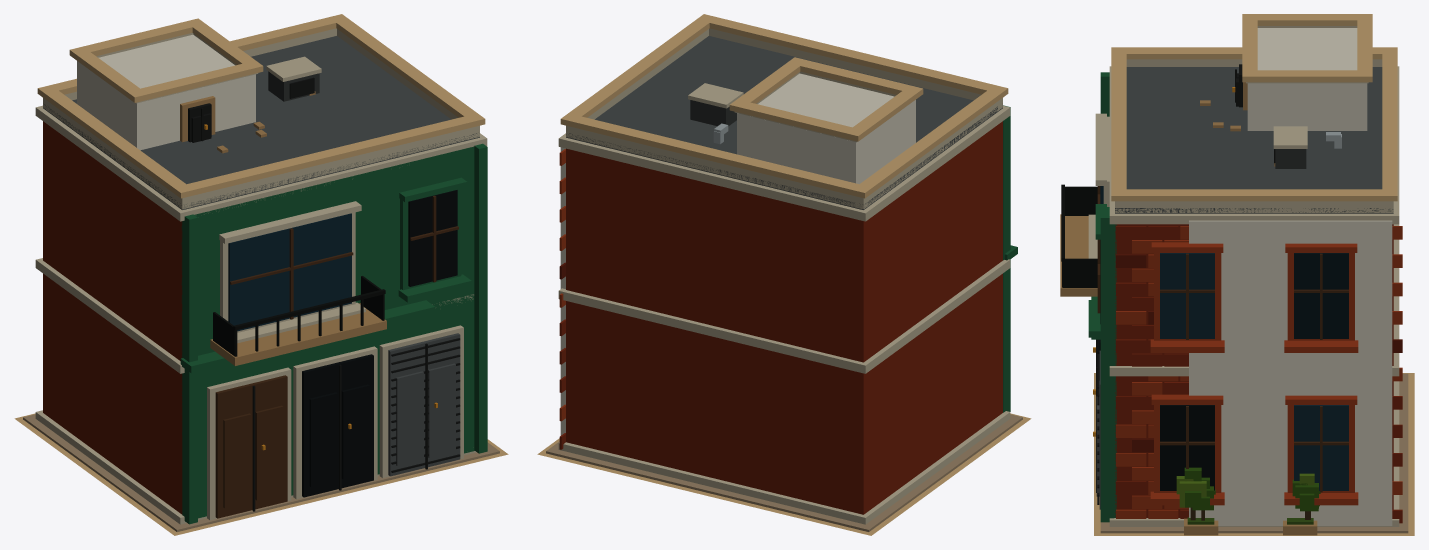
File: SM_Mapa_033.fbx
3 renders of one model, left to right at view 1: azimuth 30°, elevation 25°; view 2: azimuth 150°, elevation 25°; view 3: azimuth 270°, elevation 25°, orthographic.
Parts seen in each view (by area): view 1: SM_Mapa_033; view 2: SM_Mapa_033; view 3: SM_Mapa_033.
Boxes of the visible parts, bbox=[...] form: SM_Mapa_033: bbox=[14, 14, 508, 535]; SM_Mapa_033: bbox=[537, 14, 1031, 535]; SM_Mapa_033: bbox=[1060, 14, 1414, 535].
Size of the model in its own units: 8 by 7.23 by 8.46.
